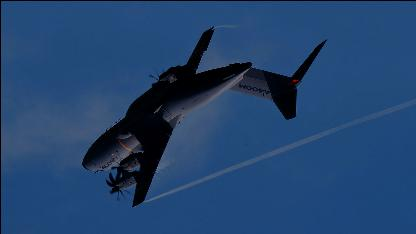A400M: (81, 26, 326, 206)
